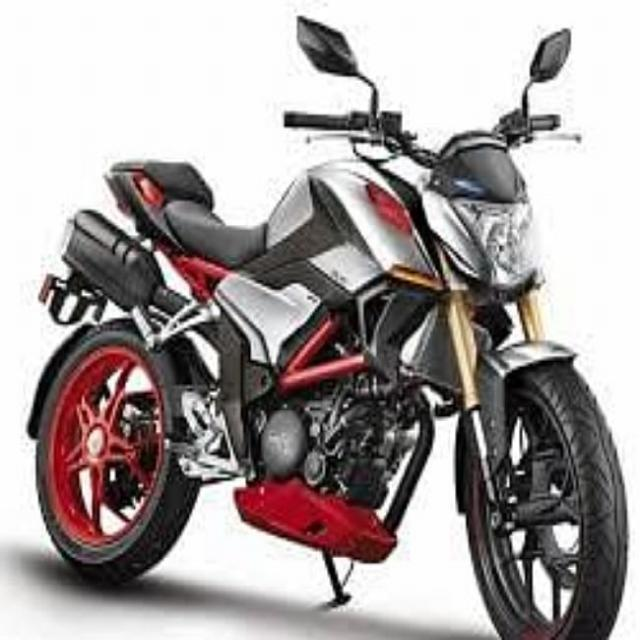Bike: (25, 16, 629, 640)
